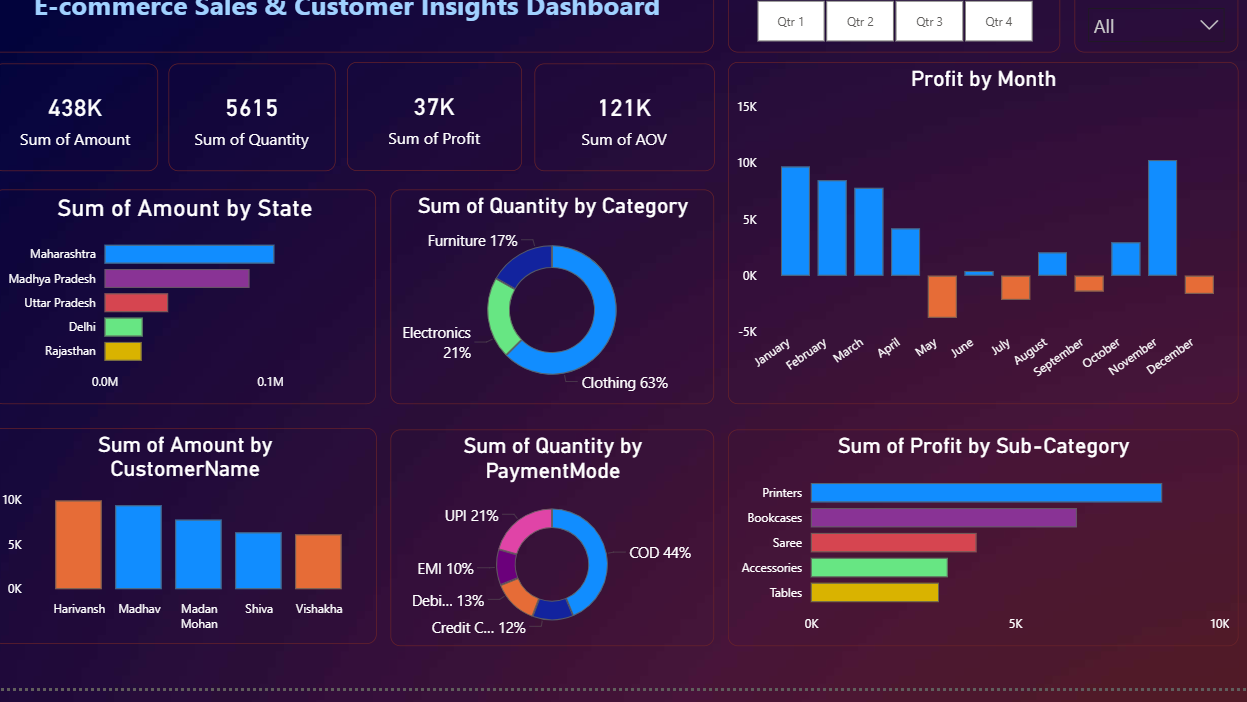

Layout of this report page (visuals, bound fields, positions):
{"tool":"powerbi","page":{"name":"Page 1","canvas":[1280,720],"ordinal":0},"visuals":[{"type":"clusteredColumnChart","title":"Profit by Month","fields":{"Category":["Orders.Order Date.Variation.Date Hierarchy.Month"],"Y":["Sum(Details.Profit)"]},"box":[753.3,88.3,515,345],"z":0},{"type":"barChart","fields":{"Category":["Details.Sub-Category"],"Y":["Sum(Details.Profit)"]},"box":[753.3,458.3,515,218.3],"z":1000},{"type":"donutChart","fields":{"Category":["Details.Category"],"Y":["Sum(Details.Quantity)"]},"box":[413.3,216.7,326.7,216.7],"z":2000},{"type":"donutChart","fields":{"Y":["Sum(Details.Quantity)"],"Series":["Details.PaymentMode"]},"box":[413.3,458.3,326.7,218.3],"z":3000},{"type":"card","fields":{"Values":["Sum(Details.Amount)"]},"box":[11.7,90,166.7,108.3],"z":4000},{"type":"card","fields":{"Values":["Sum(Details.Quantity)"]},"box":[190,90,168.3,108.3],"z":5000},{"type":"card","fields":{"Values":["Sum(Details.AOV)"]},"box":[558.3,90,181.7,108.3],"z":6000},{"type":"card","fields":{"Values":["Sum(Details.Profit)"]},"box":[370,88.3,176.7,110],"z":7000},{"type":"barChart","fields":{"Category":["Orders.State"],"Y":["Sum(Details.Amount)"]},"box":[11.7,216.7,386.7,216.7],"z":8000},{"type":"clusteredColumnChart","fields":{"Category":["Orders.CustomerName"],"Y":["Sum(Details.Amount)"]},"box":[12,458,387,218],"z":9000},{"type":"textbox","box":[0,1.7,740,76.7],"z":10000},{"type":"slicer","fields":{"Values":["Orders.Order Date.Variation.Date Hierarchy.Quarter"]},"box":[753.3,1.7,335,76.7],"z":11000},{"type":"slicer","fields":{"Values":["Orders.State"]},"box":[1103.3,1.7,165,76.7],"z":11001}]}

Visuals, with their boxes in screenshot pixels (x1, y1, x2, y2), scaled from the page's 1280x720 canvas onto the 1247x702 screenshot:
"Profit by Month" clusteredColumnChart: select_region(734, 86, 1236, 422)
barChart - Details.Sub-Category x Sum(Details.Profit): select_region(734, 447, 1236, 660)
donutChart - Details.Category x Sum(Details.Quantity): select_region(403, 211, 721, 423)
donutChart - Sum(Details.Quantity) x Details.PaymentMode: select_region(403, 447, 721, 660)
card - Sum(Details.Amount): select_region(11, 88, 174, 193)
card - Sum(Details.Quantity): select_region(185, 88, 349, 193)
card - Sum(Details.AOV): select_region(544, 88, 721, 193)
card - Sum(Details.Profit): select_region(360, 86, 533, 193)
barChart - Orders.State x Sum(Details.Amount): select_region(11, 211, 388, 423)
clusteredColumnChart - Orders.CustomerName x Sum(Details.Amount): select_region(12, 447, 389, 659)
textbox: select_region(0, 2, 721, 76)
slicer - Orders.Order Date.Variation.Date Hierarchy.Quarter: select_region(734, 2, 1060, 76)
slicer - Orders.State: select_region(1075, 2, 1236, 76)
